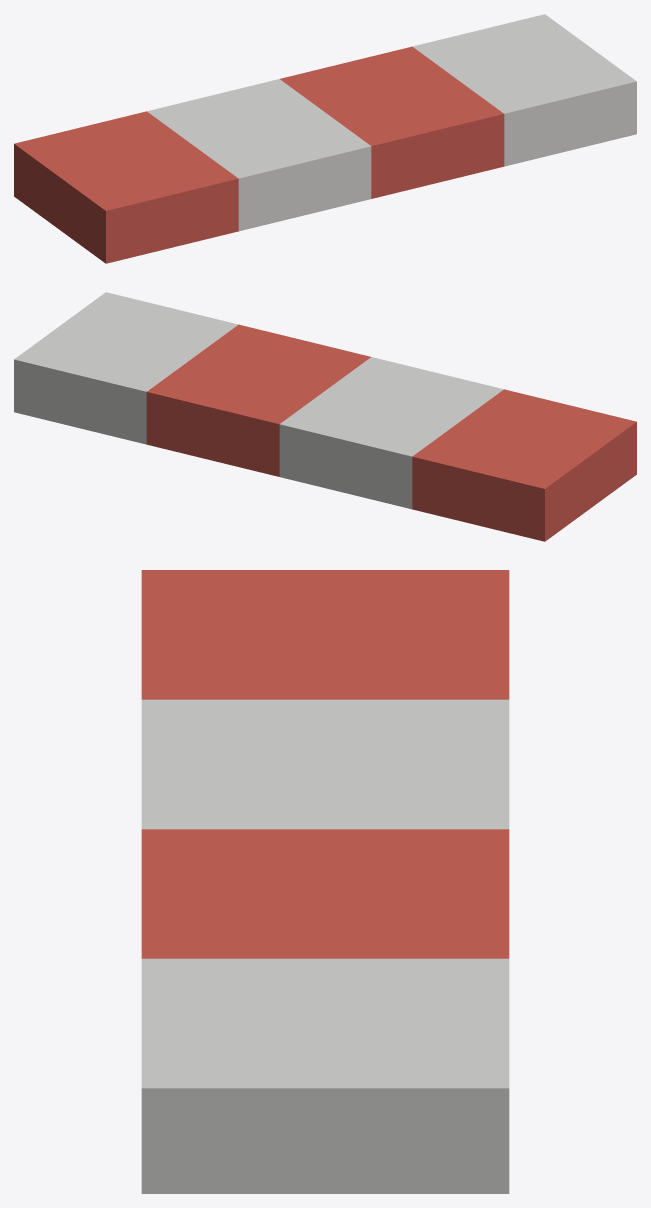
File: kerb.glb
3 renders of one model, top to bottom at view 1: azimuth 30°, elevation 25°; view 2: azimuth 150°, elevation 25°; view 3: azimuth 270°, elevation 25°, orthographic. The views are drawn at different scales.
Visible parts, largest first — view 1: kerb; view 2: kerb; view 3: kerb.
Part boxes in pixels (left/top/right/bottom): kerb: left=14, top=14, right=636, bottom=263; kerb: left=14, top=292, right=636, bottom=541; kerb: left=141, top=570, right=509, bottom=1193.
Size of the model in its own units: 4 by 0.38 by 1.2.
